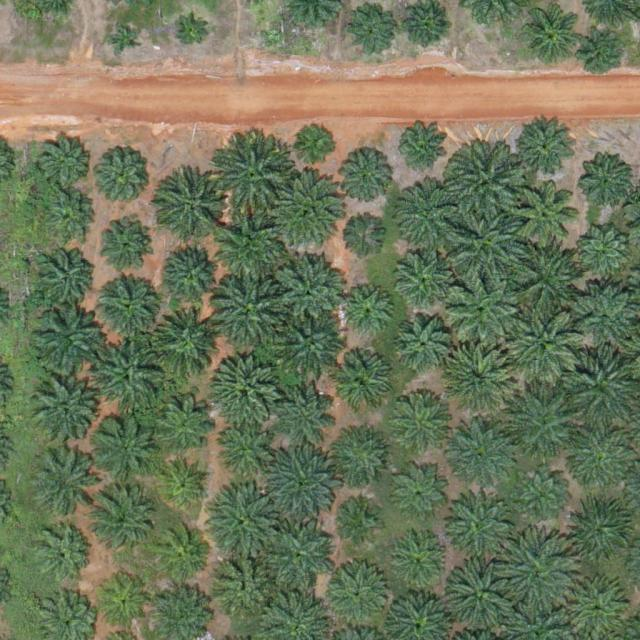Healthy: (496, 532, 574, 611), (509, 307, 587, 386), (446, 144, 524, 223), (215, 141, 293, 220), (449, 203, 527, 281), (442, 346, 513, 417), (266, 447, 337, 518), (277, 176, 348, 247), (145, 390, 216, 461), (565, 351, 635, 422), (511, 390, 582, 460), (512, 244, 582, 315), (449, 274, 520, 344), (444, 422, 514, 493), (445, 561, 515, 632), (395, 179, 466, 249), (266, 521, 336, 592), (274, 255, 344, 326), (211, 278, 282, 348), (209, 353, 280, 423), (214, 490, 284, 561), (150, 309, 220, 380), (91, 412, 161, 483), (89, 485, 159, 556), (32, 307, 102, 378), (564, 424, 634, 494), (445, 492, 515, 562), (325, 563, 395, 633), (277, 310, 347, 380), (217, 215, 287, 285), (94, 344, 164, 414), (565, 576, 628, 639), (515, 118, 578, 181), (99, 275, 162, 338), (575, 286, 637, 349), (517, 188, 579, 251), (276, 377, 338, 440), (164, 242, 226, 305), (160, 178, 223, 240), (91, 144, 153, 207), (29, 452, 91, 515), (34, 246, 97, 308), (332, 353, 394, 415), (216, 554, 278, 616), (31, 381, 93, 443), (574, 503, 629, 558), (393, 534, 448, 589), (395, 251, 450, 306), (338, 152, 393, 207), (339, 284, 394, 339), (213, 424, 268, 479), (153, 528, 208, 583), (96, 217, 151, 272), (34, 526, 89, 581), (45, 189, 100, 244), (522, 7, 577, 62), (397, 394, 451, 449), (396, 316, 450, 371), (335, 429, 389, 484), (38, 137, 92, 192), (583, 158, 630, 206), (349, 7, 396, 55), (582, 232, 629, 279), (520, 467, 567, 514), (399, 473, 446, 520), (405, 5, 452, 52)
Small: (158, 458, 213, 513), (395, 123, 450, 178), (339, 217, 386, 265), (340, 503, 380, 542), (581, 32, 620, 72), (298, 125, 337, 164), (176, 19, 207, 51), (109, 24, 140, 56)
Yellow: (98, 576, 152, 631)
